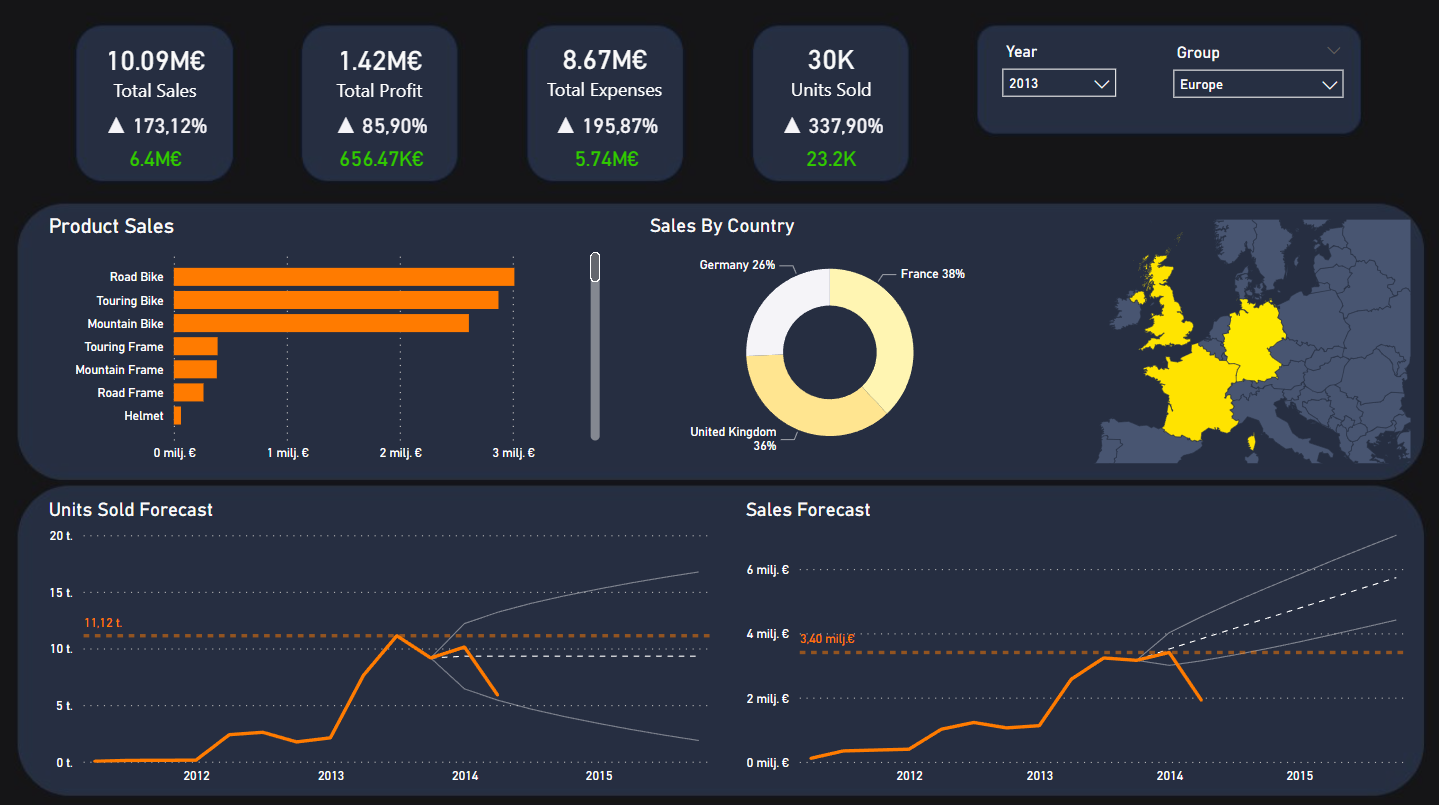

The page's visual inventory and layout, read from the dashboard file:
{"tool":"powerbi","page":{"name":"Sivu 1","canvas":[1280,720],"ordinal":0},"visuals":[{"type":"clusteredBarChart","title":"Product Sales","fields":{"Category":["Production Product.ProductCategory","Production Product.Name"],"Y":["Sales SalesOrderDetail.Total Sales"]},"box":[41,192.8,498.6,225.8],"z":0},{"type":"slicer","fields":{"Values":["Sales SalesTerritory.Group"]},"box":[1033,36.1,171.4,58.6],"z":1000},{"type":"shapeMap","fields":{"Category":["Sales SalesTerritory.CountryNames"],"Value":["Sales SalesOrderDetail.Total Sales"]},"box":[889.3,192.8,368.7,225.8],"z":2000},{"type":"slicer","fields":{"Values":["Sales SalesOrderDetail.ModifiedDate.Vaihtelu.Päivämäärähierarkia.Vuosi"]},"box":[881.2,35.6,120.9,70.9],"z":3000},{"type":"advanceCardE03760C5AB684758B56AA29F9E6C257B","fields":{"mainMeasure":["Production ProductCostHistory.Total Expenses"]},"box":[469.3,28.6,139.7,70.3],"z":5000},{"type":"donutChart","title":"Sales By Country","fields":{"Category":["Sales SalesTerritory.CountryNames"],"Y":["Sales SalesOrderDetail.Total Sales"]},"box":[573.4,192.6,329.6,226.4],"z":6000},{"type":"advanceCardE03760C5AB684758B56AA29F9E6C257B","fields":{"mainMeasure":["Sales SalesOrderDetail.Total Profit"]},"box":[269.8,29.5,139.7,70.3],"z":7000},{"type":"advanceCardE03760C5AB684758B56AA29F9E6C257B","fields":{"mainMeasure":["Sales SalesOrderDetail.Units Sold"]},"box":[669.7,28.6,140.5,70.3],"z":8000},{"type":"advanceCardE03760C5AB684758B56AA29F9E6C257B","fields":{"mainMeasure":["Sales SalesOrderDetail.Percentage Difference"]},"box":[70.6,99.4,140,30.7],"z":9000},{"type":"advanceCardE03760C5AB684758B56AA29F9E6C257B","fields":{"mainMeasure":["Sales SalesOrderDetail.Total Profit Percentage Difference"]},"box":[270.3,99.4,140,30],"z":10000},{"type":"advanceCardE03760C5AB684758B56AA29F9E6C257B","fields":{"mainMeasure":["Production ProductCostHistory.Total Expenses Percentage Difference"]},"box":[470.1,99.4,140.1,30.7],"z":11000},{"type":"advanceCardE03760C5AB684758B56AA29F9E6C257B","fields":{"mainMeasure":["Sales SalesOrderDetail.Units Sold Percentage Difference"]},"box":[670,99.4,140.1,29.8],"z":12000},{"type":"advanceCardE03760C5AB684758B56AA29F9E6C257B","fields":{"mainMeasure":["Sales SalesOrderDetail.Total Sales"]},"box":[70.3,29.5,140.5,70.3],"z":13000},{"type":"advanceCardE03760C5AB684758B56AA29F9E6C257B","fields":{"mainMeasure":["Sales SalesOrderDetail.Sales Difference"]},"box":[90.6,128.6,100,30],"z":14000},{"type":"advanceCardE03760C5AB684758B56AA29F9E6C257B","fields":{"mainMeasure":["Sales SalesOrderDetail.Units Sold Difference"]},"box":[690.2,128.6,99.9,29.8],"z":15000},{"type":"advanceCardE03760C5AB684758B56AA29F9E6C257B","fields":{"mainMeasure":["Sales SalesOrderDetail.Expense Difference"]},"box":[490.3,128.6,99.9,30],"z":16000},{"type":"advanceCardE03760C5AB684758B56AA29F9E6C257B","fields":{"mainMeasure":["Sales SalesOrderDetail.Profit Difference"]},"box":[290.5,128.6,99.9,30.7],"z":17000},{"type":"lineChart","title":"Units Sold Forecast","fields":{"Category":["Sales SalesOrderDetail.ModifiedDate.Vaihtelu.Päivämäärähierarkia.Vuosi","Sales SalesOrderDetail.ModifiedDate.Vaihtelu.Päivämäärähierarkia.Vuosineljännes"],"Y":["Sales SalesOrderDetail.Units Sold"]},"box":[41,444.7,599.5,259.8],"z":18000},{"type":"lineChart","title":"Sales Forecast","fields":{"Category":["Sales SalesOrderDetail.ModifiedDate.Vaihtelu.Päivämäärähierarkia.Vuosi","Sales SalesOrderDetail.ModifiedDate.Vaihtelu.Päivämäärähierarkia.Vuosineljännes"],"Y":["Sales SalesOrderDetail.Total Sales"]},"box":[658.5,444.7,600,260],"z":19000}]}

Visuals, with their boxes in screenshot pixels (x1, y1, x2, y2), scaled from the page's 1280x720 canvas onto the 1439x805 screenshot:
"Product Sales" clusteredBarChart: {"x1": 46, "y1": 216, "x2": 607, "y2": 468}
slicer - Sales SalesTerritory.Group: {"x1": 1161, "y1": 40, "x2": 1354, "y2": 106}
shapeMap - Sales SalesTerritory.CountryNames x Sales SalesOrderDetail.Total Sales: {"x1": 1000, "y1": 216, "x2": 1414, "y2": 468}
slicer - Sales SalesOrderDetail.ModifiedDate.Vaihtelu.Päivämäärähierarkia.Vuosi: {"x1": 991, "y1": 40, "x2": 1127, "y2": 119}
advanceCardE03760C5AB684758B56AA29F9E6C257B - Production ProductCostHistory.Total Expenses: {"x1": 528, "y1": 32, "x2": 685, "y2": 111}
"Sales By Country" donutChart: {"x1": 645, "y1": 215, "x2": 1015, "y2": 468}
advanceCardE03760C5AB684758B56AA29F9E6C257B - Sales SalesOrderDetail.Total Profit: {"x1": 303, "y1": 33, "x2": 460, "y2": 112}
advanceCardE03760C5AB684758B56AA29F9E6C257B - Sales SalesOrderDetail.Units Sold: {"x1": 753, "y1": 32, "x2": 911, "y2": 111}
advanceCardE03760C5AB684758B56AA29F9E6C257B - Sales SalesOrderDetail.Percentage Difference: {"x1": 79, "y1": 111, "x2": 237, "y2": 145}
advanceCardE03760C5AB684758B56AA29F9E6C257B - Sales SalesOrderDetail.Total Profit Percentage Difference: {"x1": 304, "y1": 111, "x2": 461, "y2": 145}
advanceCardE03760C5AB684758B56AA29F9E6C257B - Production ProductCostHistory.Total Expenses Percentage Difference: {"x1": 528, "y1": 111, "x2": 686, "y2": 145}
advanceCardE03760C5AB684758B56AA29F9E6C257B - Sales SalesOrderDetail.Units Sold Percentage Difference: {"x1": 753, "y1": 111, "x2": 911, "y2": 144}
advanceCardE03760C5AB684758B56AA29F9E6C257B - Sales SalesOrderDetail.Total Sales: {"x1": 79, "y1": 33, "x2": 237, "y2": 112}
advanceCardE03760C5AB684758B56AA29F9E6C257B - Sales SalesOrderDetail.Sales Difference: {"x1": 102, "y1": 144, "x2": 214, "y2": 177}
advanceCardE03760C5AB684758B56AA29F9E6C257B - Sales SalesOrderDetail.Units Sold Difference: {"x1": 776, "y1": 144, "x2": 888, "y2": 177}
advanceCardE03760C5AB684758B56AA29F9E6C257B - Sales SalesOrderDetail.Expense Difference: {"x1": 551, "y1": 144, "x2": 664, "y2": 177}
advanceCardE03760C5AB684758B56AA29F9E6C257B - Sales SalesOrderDetail.Profit Difference: {"x1": 327, "y1": 144, "x2": 439, "y2": 178}
"Units Sold Forecast" lineChart: {"x1": 46, "y1": 497, "x2": 720, "y2": 788}
"Sales Forecast" lineChart: {"x1": 740, "y1": 497, "x2": 1415, "y2": 788}
